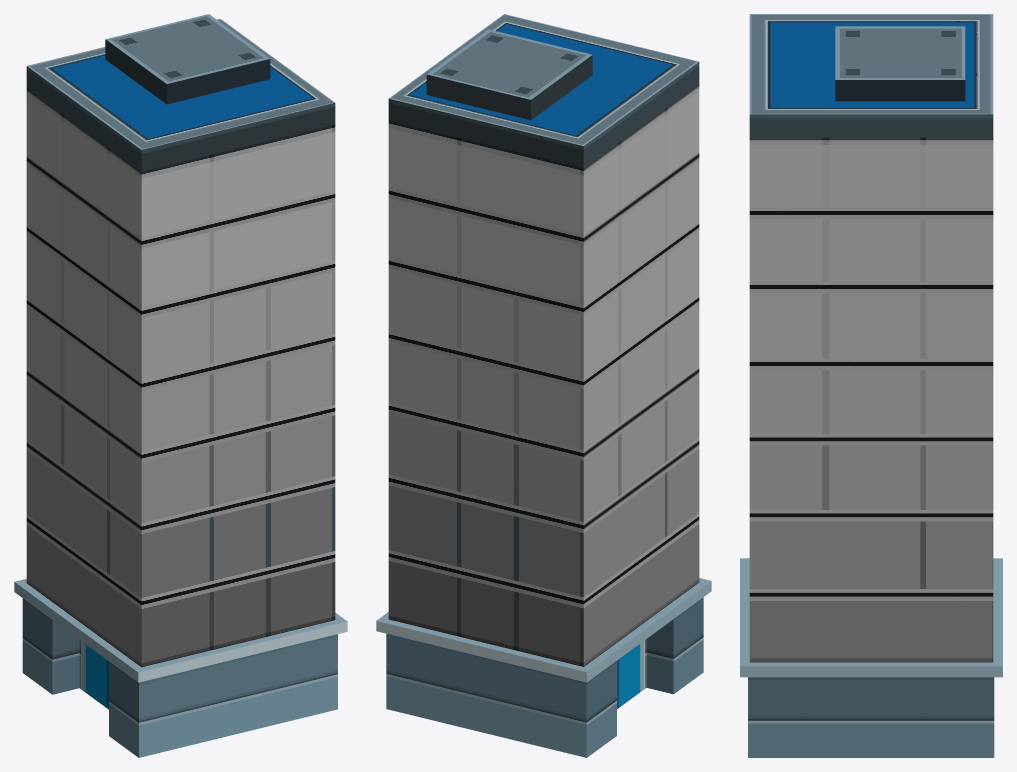
File: skyscraper.fbx
3 views of the same model, side by side, from view 1: azimuth 30°, elevation 25°; view 2: azimuth 150°, elevation 25°; view 3: azimuth 270°, elevation 25° (orthographic). The views are drawn at different scales.
Visible parts, largest first — view 1: glass, skyscraper; view 2: glass, skyscraper; view 3: glass, skyscraper.
Part boxes in pixels (box(x1,y1,x2,y2)): glass: box(26, 88, 335, 667); skyscraper: box(14, 14, 347, 757); glass: box(388, 84, 699, 666); skyscraper: box(376, 14, 711, 757); glass: box(749, 137, 993, 662); skyscraper: box(740, 14, 1002, 757).
Bounding box in the file's own units: 16.77 × 47.99 × 17.21.
1 material, 1 textured.
